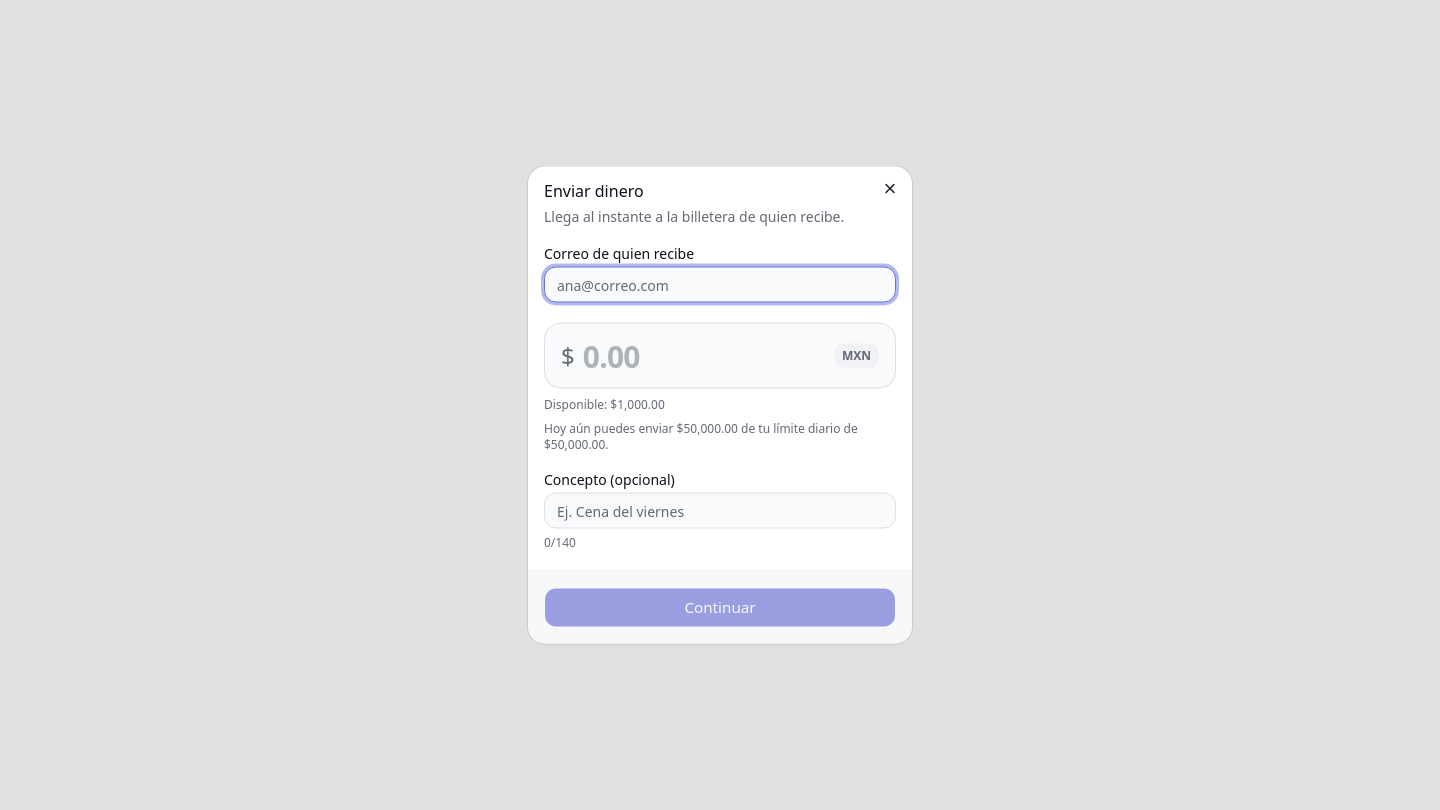
Test: TransferDialog › says when the email has no wallet in that currency
Type "nadie@example.com" into the dropdown labelled "Correo de quien recibe".
click(720, 284); type("nadie@example.com")  # box left=544, top=266, right=896, bottom=302
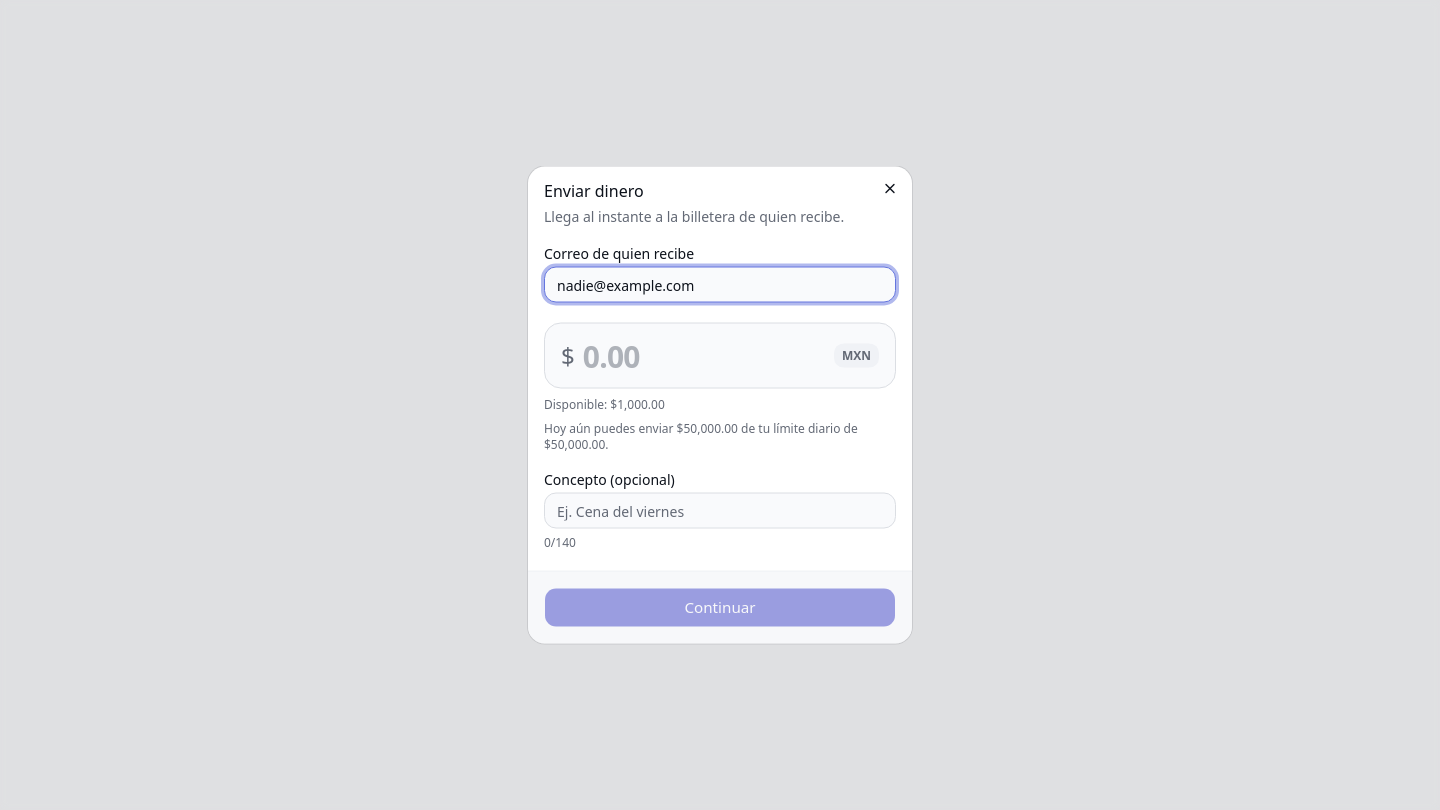
Type "250" into the field named "Monto".
click(704, 356); type("250")  # box left=583, top=324, right=826, bottom=388
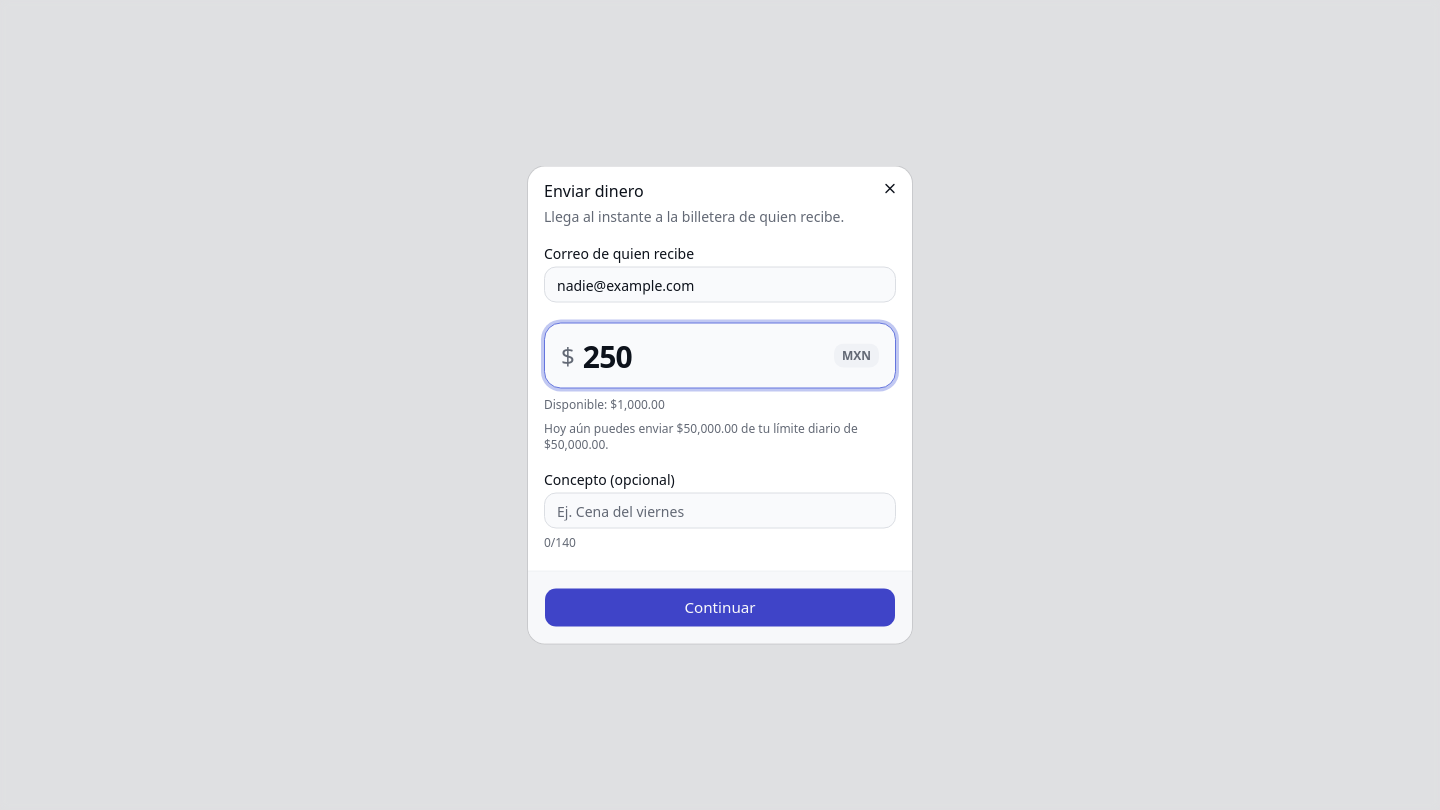
Click the button "Continuar".
click(720, 608)  # box left=544, top=588, right=896, bottom=628
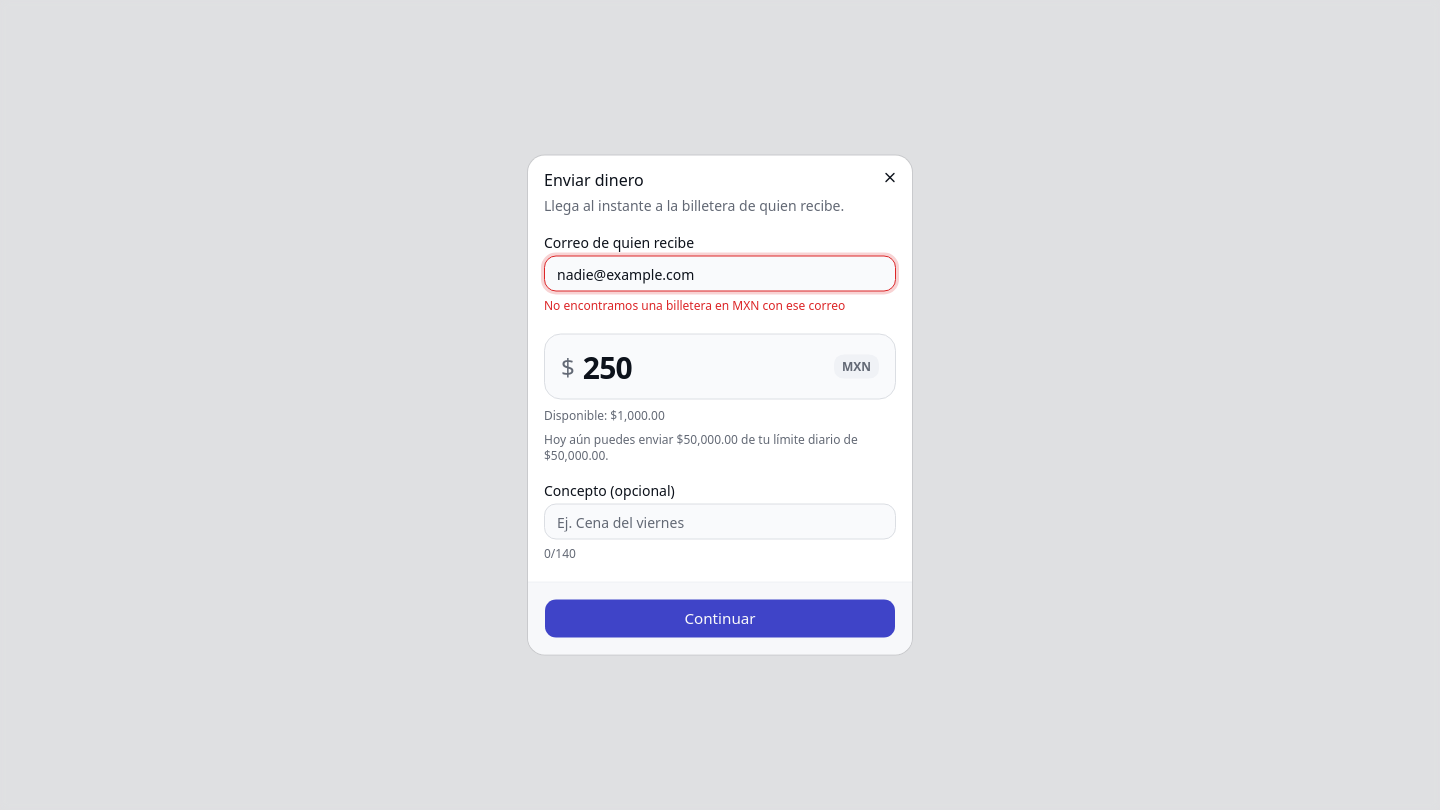
Check: the text "No encontramos una billetera en MXN con ese correo" is shown, box left=544, top=298, right=896, bottom=314
